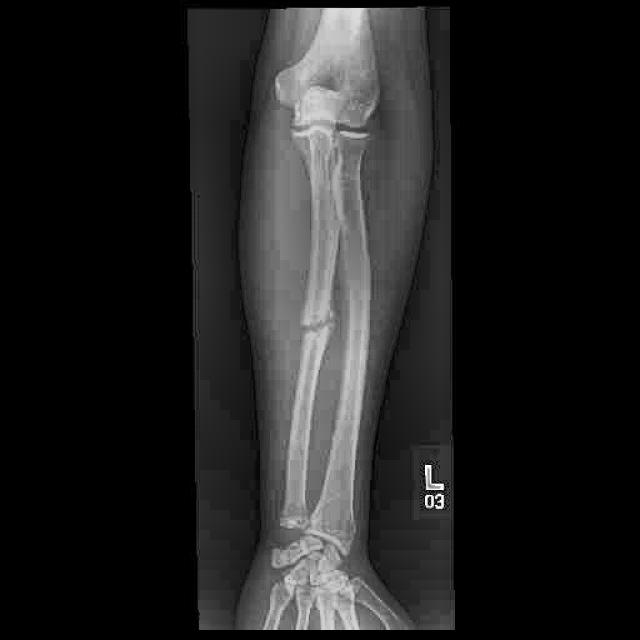forearm fracture: (275, 277, 349, 384)
